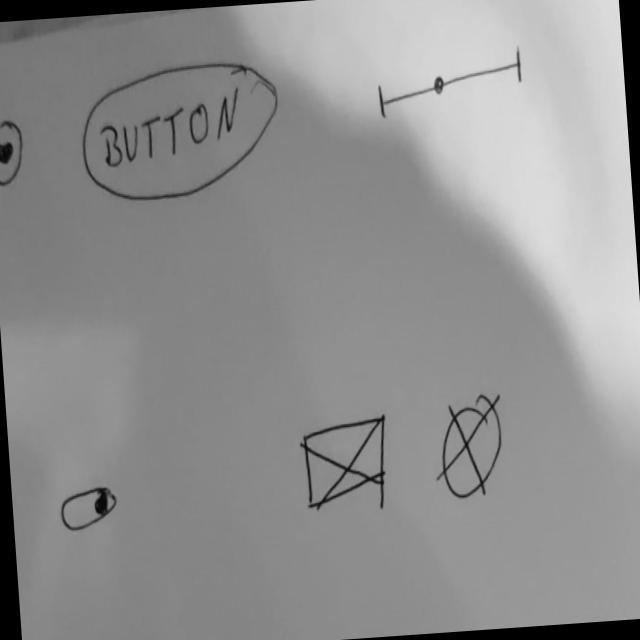button: (76, 54, 287, 206)
icon-button: (0, 113, 29, 189)
image: (300, 410, 394, 512), (430, 391, 510, 502)
slider: (372, 39, 527, 123)
toggle: (56, 482, 120, 536)
